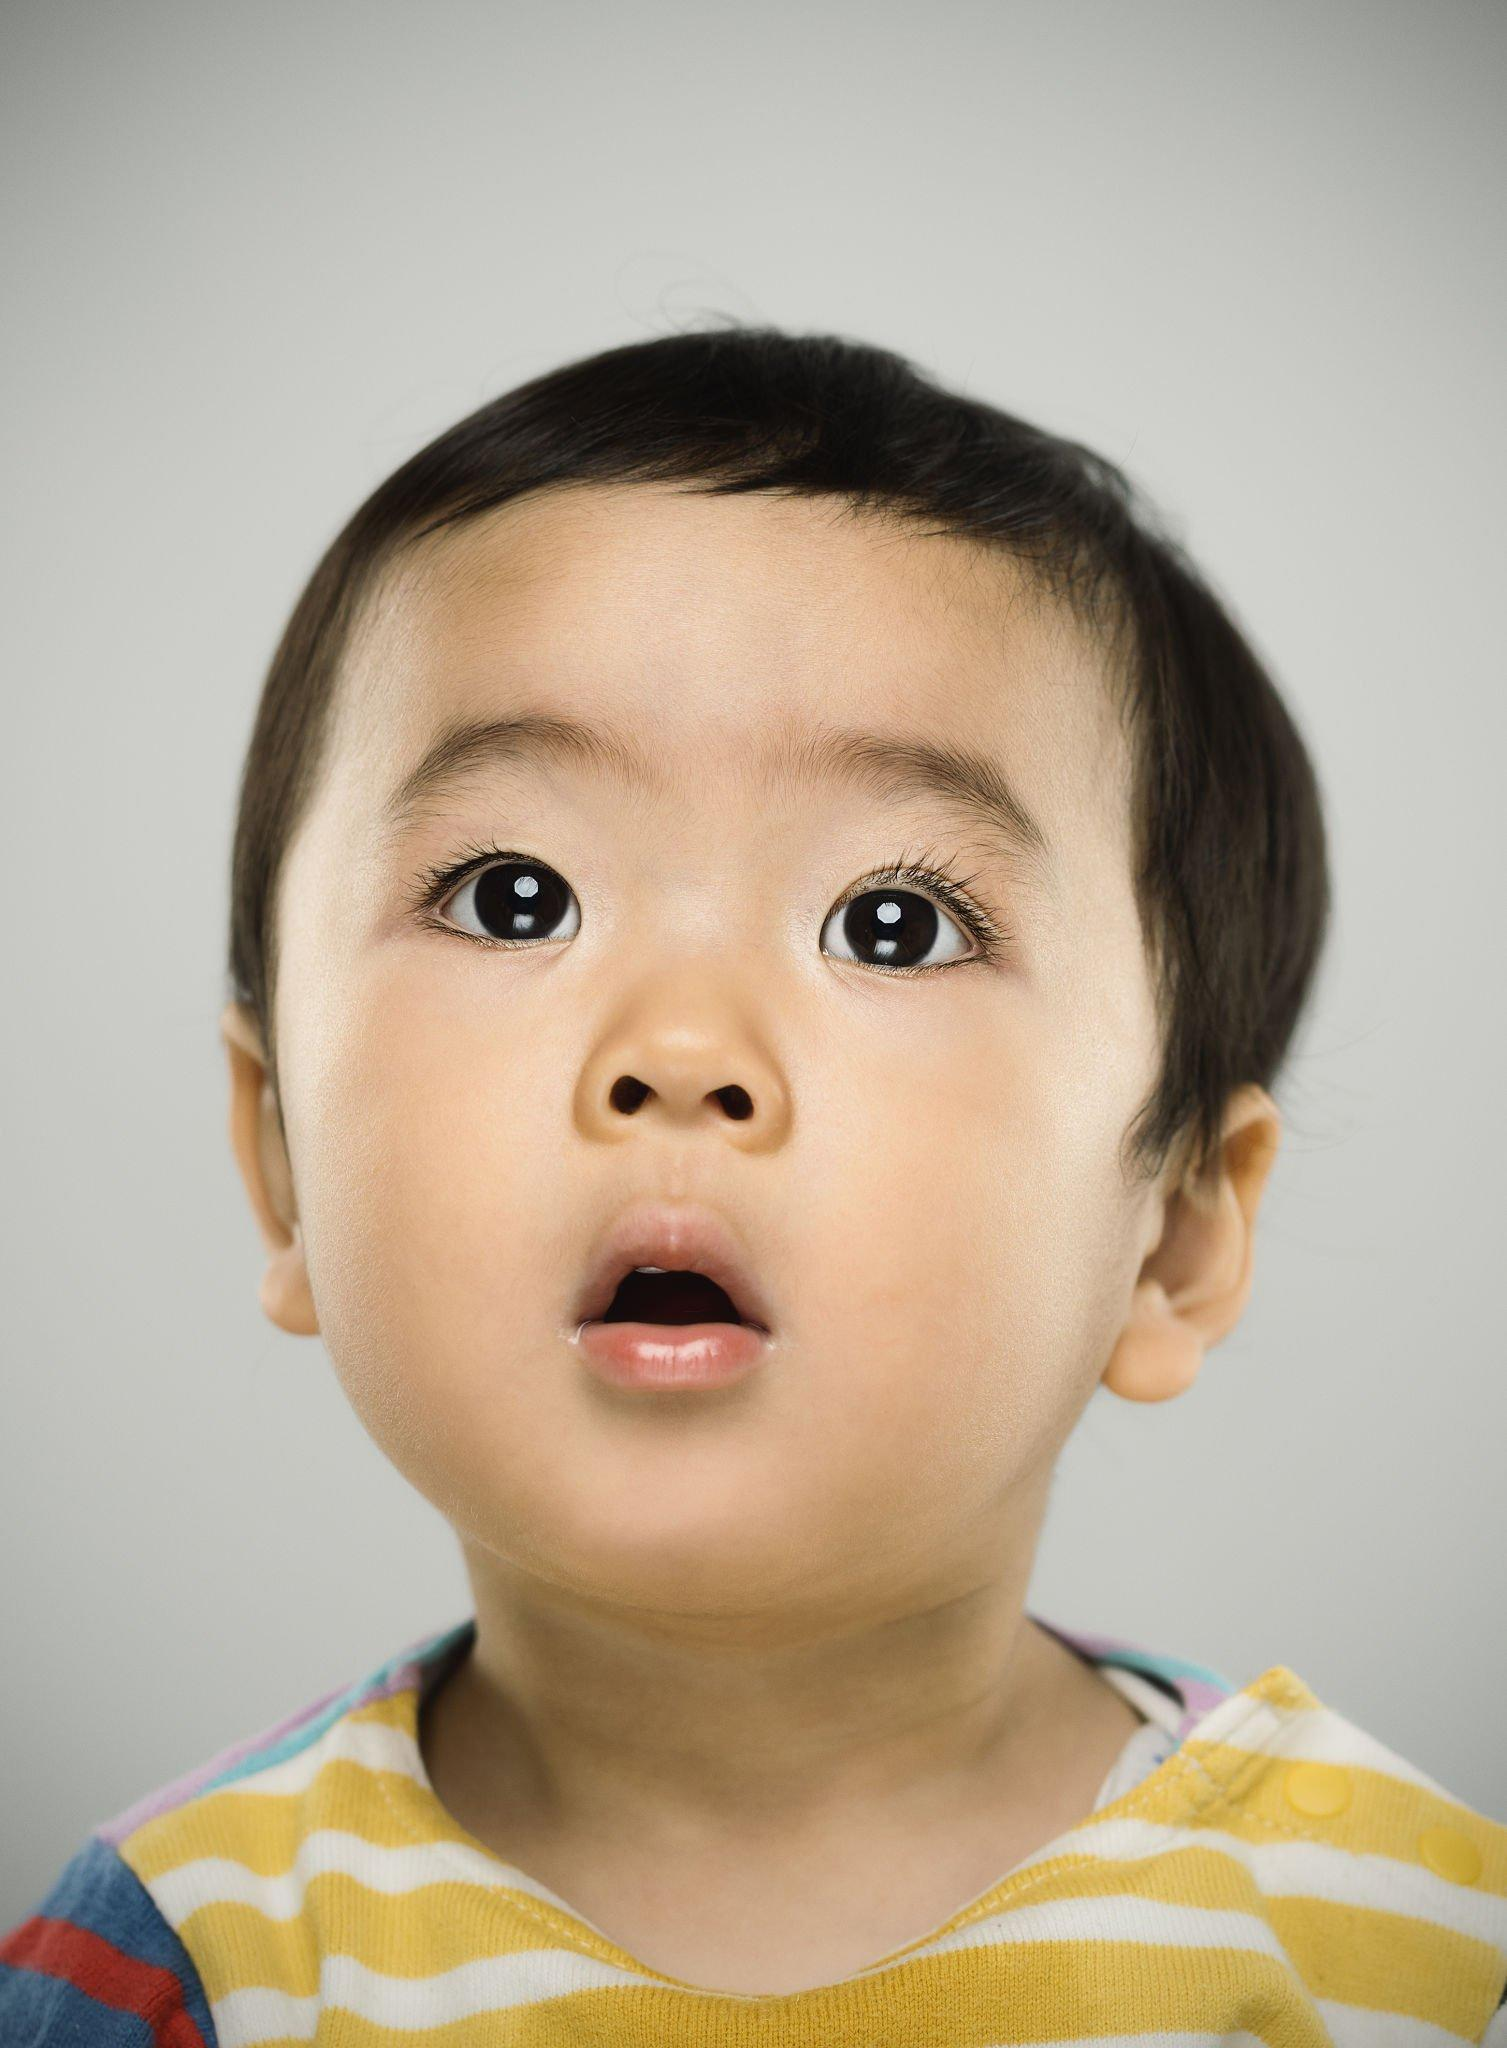Healthy: (183, 348, 1302, 1673)
